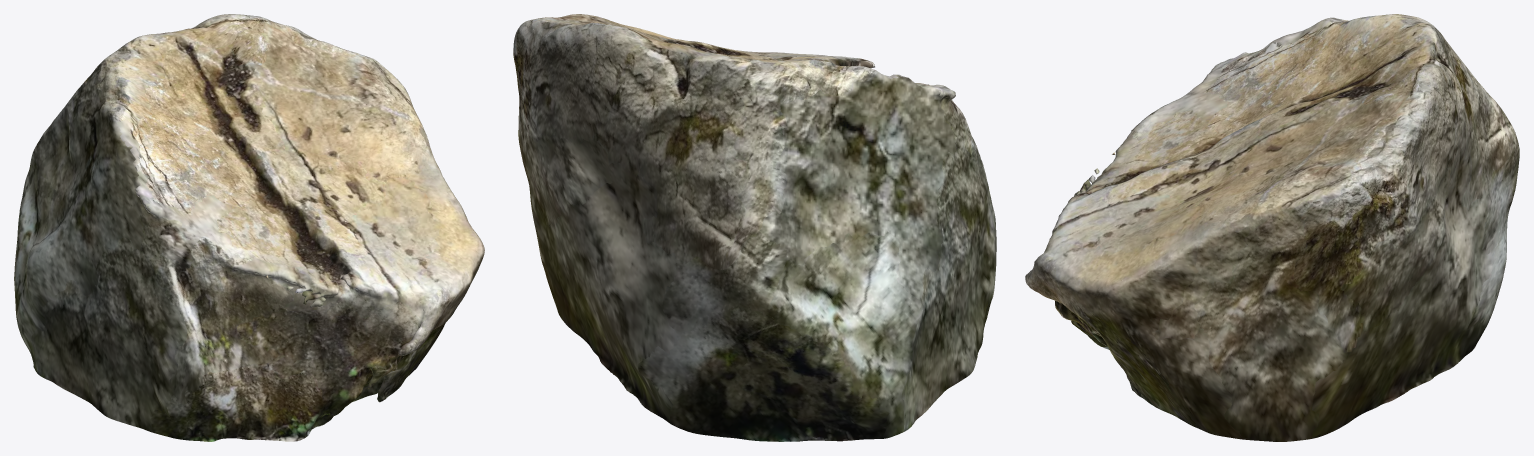
The model's file is rock1-transformed.glb.
The picture shows the model from 3 angles, left to right: view 1: azimuth 30°, elevation 25°; view 2: azimuth 150°, elevation 25°; view 3: azimuth 270°, elevation 25°; orthographic projection. The views are drawn at different scales.
Parts seen in each view (by area): view 1: Object_2; view 2: Object_2; view 3: Object_2.
Boxes of the visible parts, <box> form: Object_2: <box>14,14,484,441</box>; Object_2: <box>513,14,996,441</box>; Object_2: <box>1025,14,1519,441</box>.
Size of the model in its own units: 1.57 by 1.27 by 1.82.
1 material, 1 textured.
